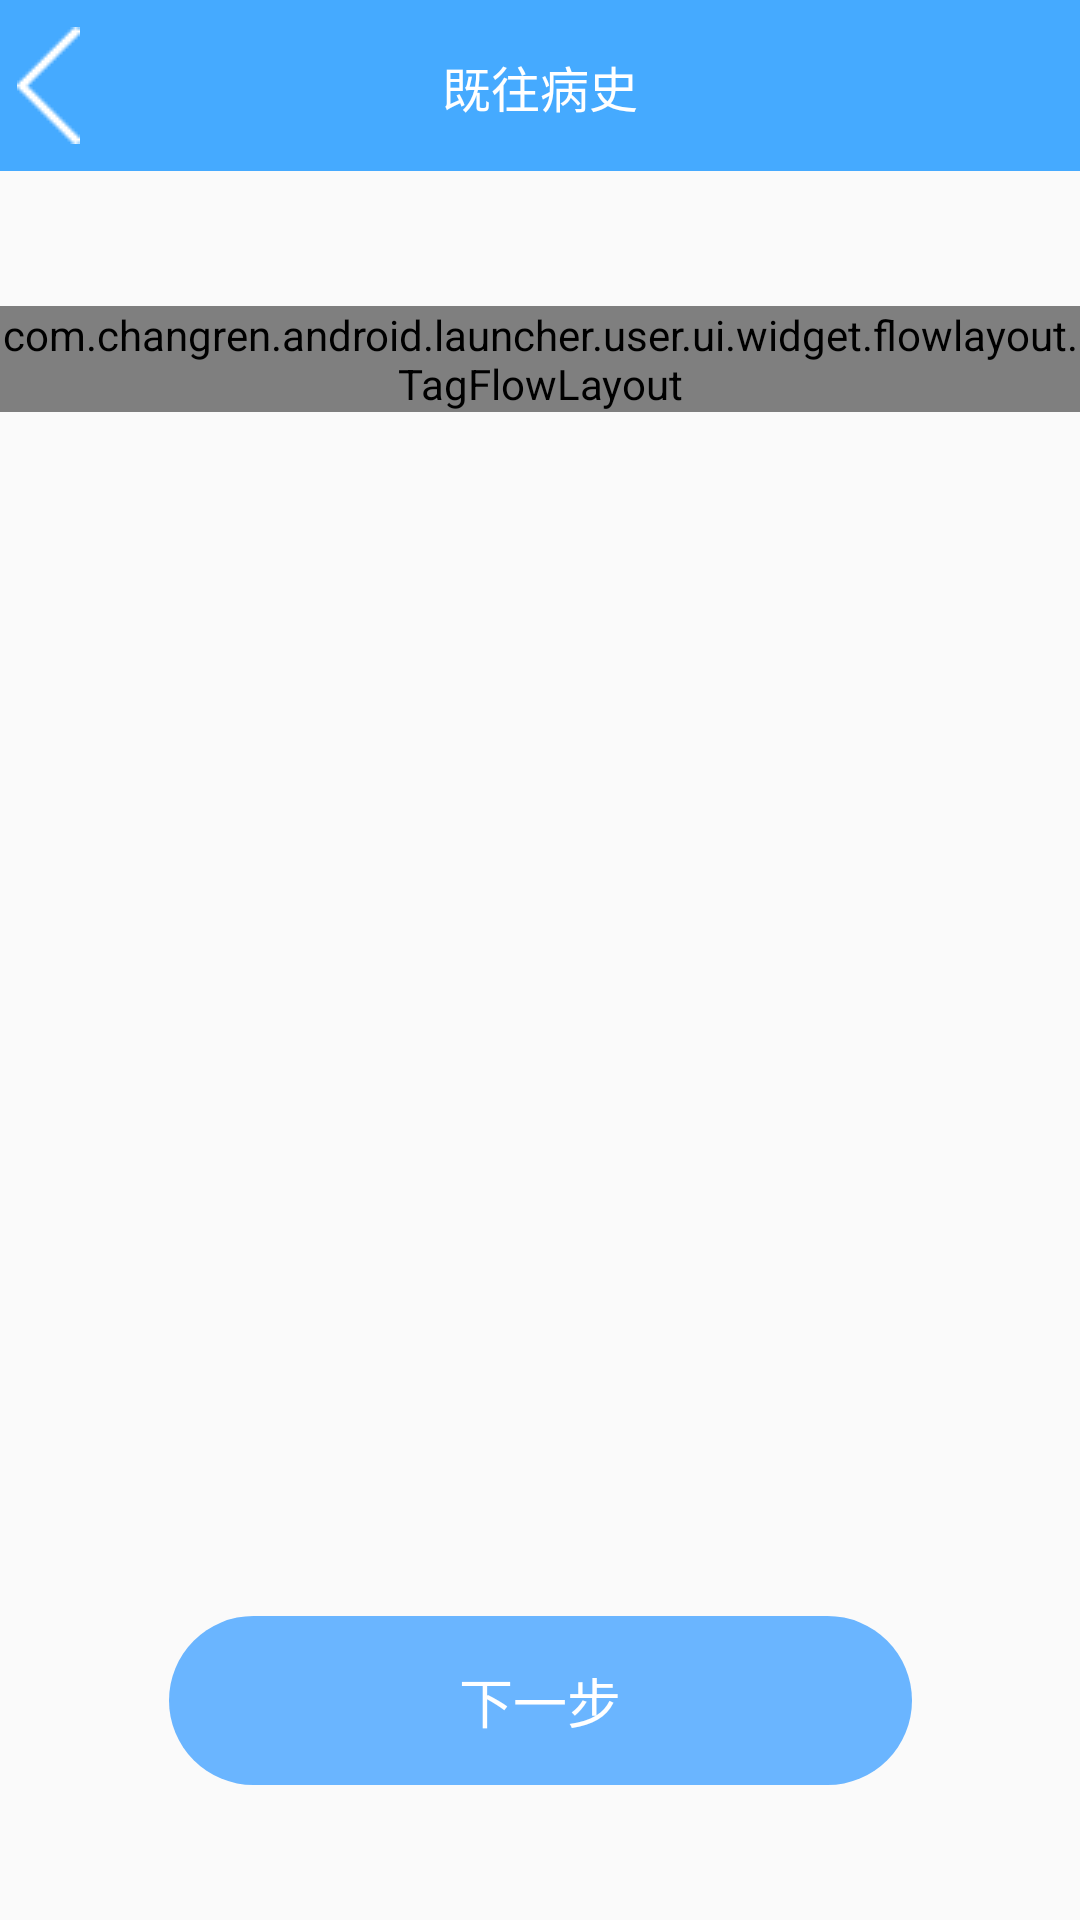

Screen size 1080*1920. Icon name, then its center in pixels as (x,y):
back: (48,85)
